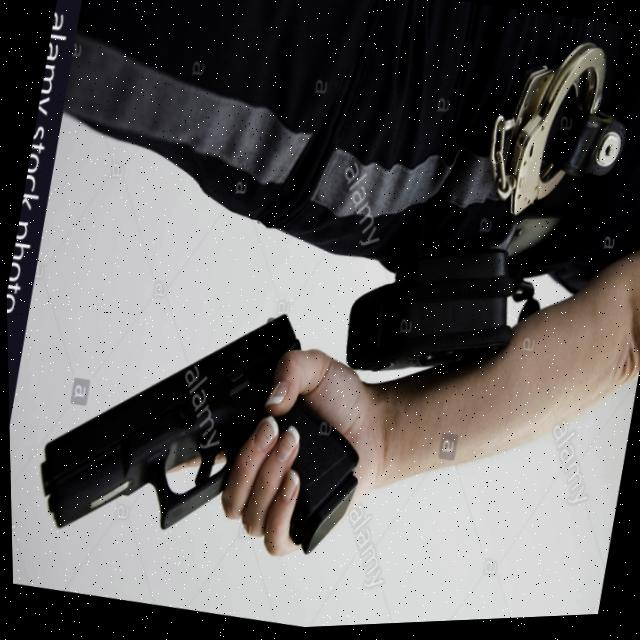pistol: (22, 273, 311, 571)
